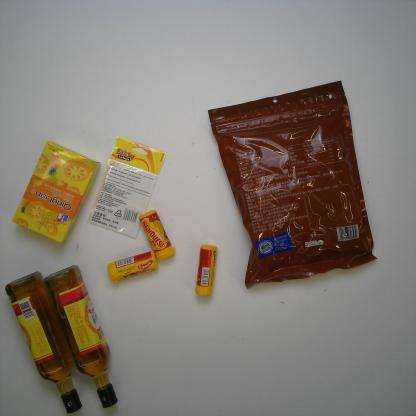Candy: (136, 206, 176, 263), (106, 248, 159, 284), (193, 244, 219, 300)
Dessert: (11, 139, 102, 246)
Dried Food: (204, 77, 380, 293)
Seasoner: (4, 268, 84, 416), (42, 263, 120, 410)
Stationery: (85, 134, 170, 242)
